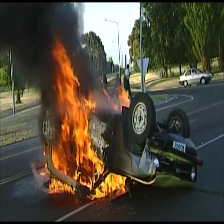fire_h: (52, 35, 107, 189), (88, 173, 126, 199), (103, 84, 130, 110), (45, 177, 75, 195)
fire_l: (40, 162, 51, 176), (42, 143, 49, 155)
